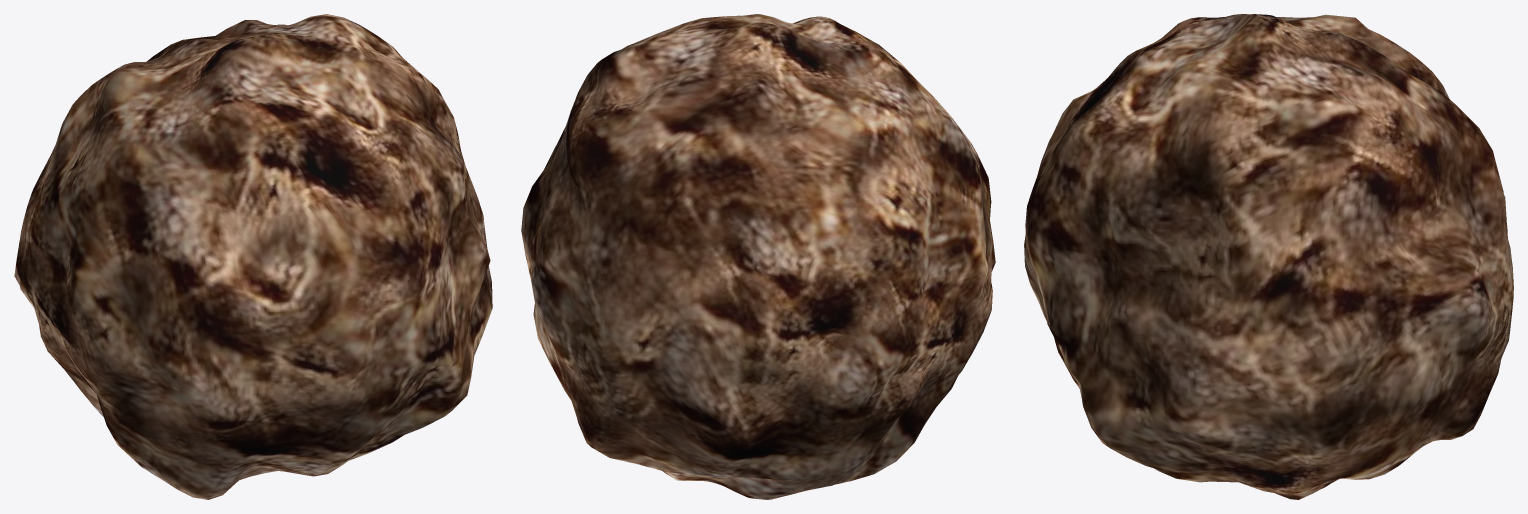
File: pepper_brown.fbx
3 renders of one model, left to right at view 1: azimuth 30°, elevation 25°; view 2: azimuth 150°, elevation 25°; view 3: azimuth 270°, elevation 25°, orthographic. The views are drawn at different scales.
Parts seen in each view (by area): view 1: PepperBrown; view 2: PepperBrown; view 3: PepperBrown.
Boxes of the visible parts, x1,y1,x2,y2 form: PepperBrown: (14,14,492,499); PepperBrown: (521,14,995,499); PepperBrown: (1024,14,1513,499).
Size of what is drawn, in the model's own units: 0.4033 by 0.408 by 0.4094.
